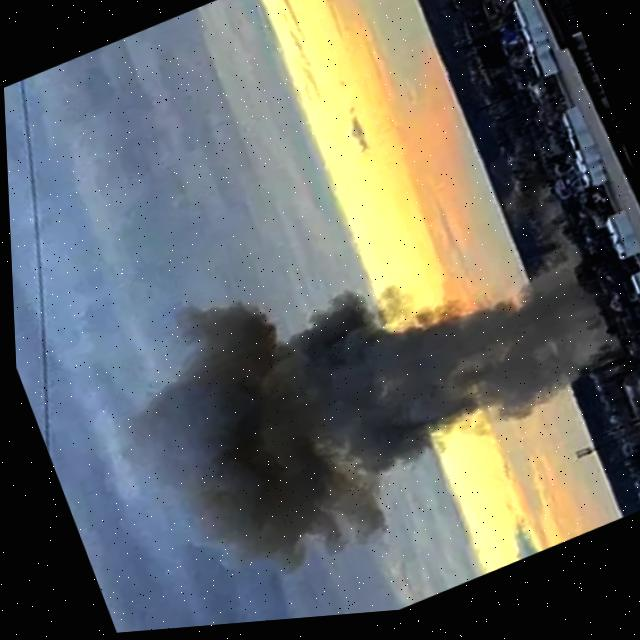Smoke: (86, 164, 640, 627)
